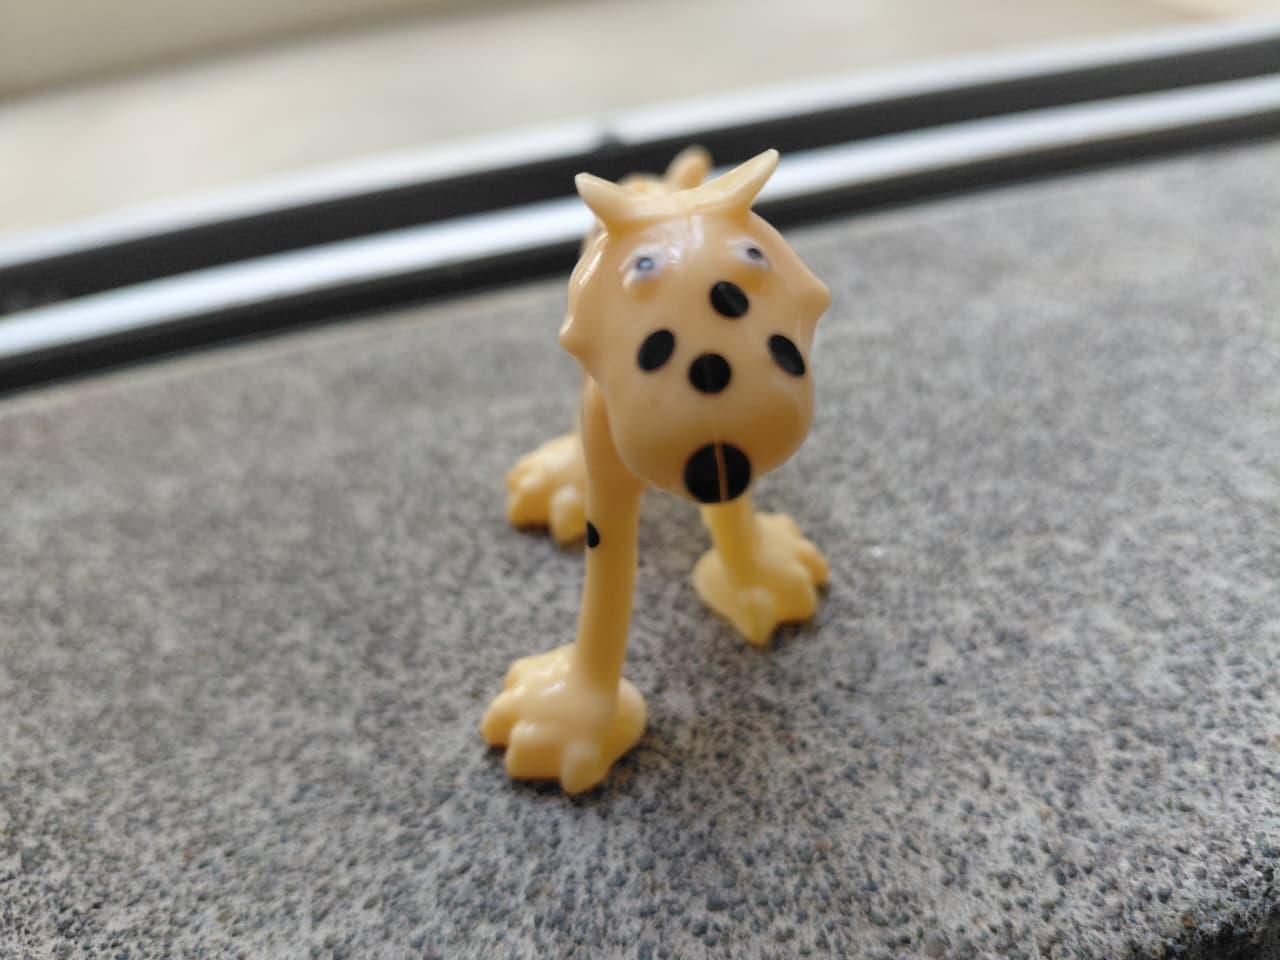cheetah: (458, 116, 1043, 810)
